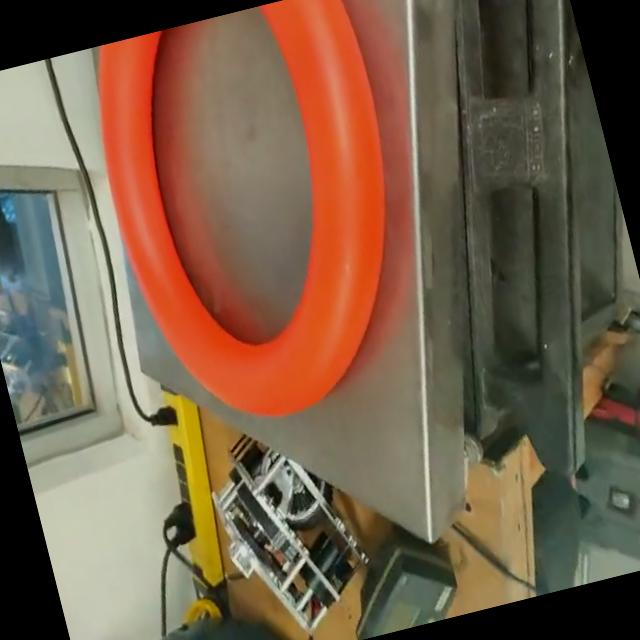note: (72, 0, 451, 446)
